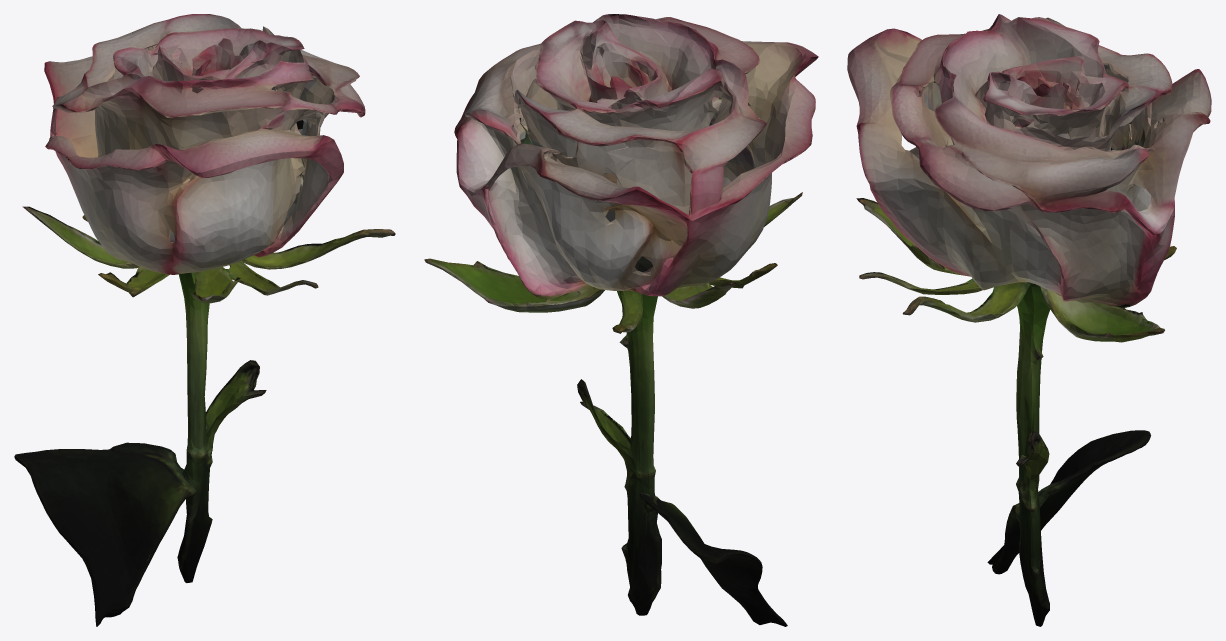
3 renders of one model, left to right at view 1: azimuth 30°, elevation 25°; view 2: azimuth 150°, elevation 25°; view 3: azimuth 270°, elevation 25°, orthographic. The views are drawn at different scales.
Parts seen in each view (by area): view 1: world; view 2: world; view 3: world.
Part boxes in pixels (box(x1,y1,x2,y2)): world: box(14, 14, 395, 626); world: box(424, 14, 818, 626); world: box(847, 14, 1211, 626).
Size of the model in its own units: 0.5698 by 0.9992 by 0.564.
1 material, 1 textured.
